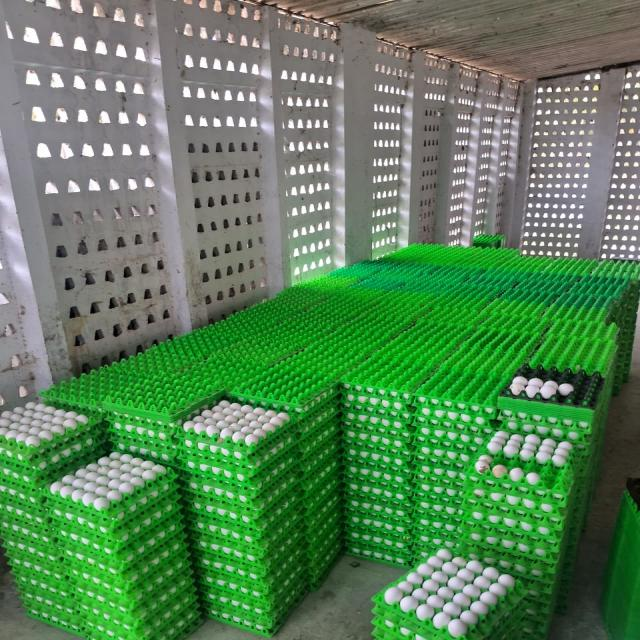egg_tray: (50, 453, 195, 636), (503, 378, 612, 599), (462, 432, 573, 561), (0, 403, 99, 547), (373, 549, 523, 640), (41, 332, 201, 412), (418, 318, 539, 420), (193, 522, 307, 628), (344, 310, 467, 408), (63, 518, 190, 608), (343, 416, 413, 565), (0, 438, 101, 541), (435, 300, 540, 398), (49, 452, 174, 534), (69, 536, 194, 618), (181, 432, 299, 518), (105, 377, 221, 464), (182, 446, 299, 530), (73, 544, 195, 622), (57, 503, 183, 574), (315, 296, 420, 380), (181, 444, 298, 518), (500, 410, 605, 492), (61, 518, 187, 586), (465, 430, 573, 508), (41, 348, 174, 411), (103, 362, 222, 432), (185, 492, 303, 562), (414, 424, 483, 542), (459, 480, 571, 552), (181, 400, 293, 472), (502, 377, 613, 448), (49, 452, 168, 517), (471, 538, 563, 622), (499, 378, 611, 446), (71, 548, 193, 610), (0, 423, 105, 495), (231, 345, 337, 416), (79, 576, 196, 640), (475, 548, 556, 640), (0, 402, 97, 478), (77, 350, 185, 418), (469, 430, 573, 498), (460, 510, 566, 576), (413, 410, 494, 496), (197, 552, 307, 615), (230, 348, 335, 412), (333, 288, 425, 361), (463, 460, 573, 520), (183, 463, 300, 518), (193, 518, 303, 575), (7, 546, 81, 630), (229, 366, 340, 422), (342, 412, 412, 500), (201, 572, 306, 630), (601, 478, 639, 638), (193, 544, 304, 596), (183, 336, 263, 408), (191, 506, 301, 558), (202, 322, 291, 386), (535, 496, 586, 606), (193, 546, 304, 596), (83, 593, 201, 640), (498, 366, 604, 418), (330, 334, 397, 411), (335, 328, 397, 410), (183, 399, 289, 446), (344, 447, 413, 519), (205, 587, 306, 636), (213, 334, 303, 388), (230, 384, 340, 428), (483, 430, 573, 483), (341, 406, 410, 475), (468, 544, 556, 598), (185, 495, 299, 536), (345, 498, 413, 565), (415, 432, 477, 504), (295, 402, 341, 498), (295, 402, 342, 492), (412, 381, 496, 430), (415, 430, 483, 486), (342, 420, 413, 473), (0, 402, 94, 442), (411, 485, 462, 558), (0, 484, 57, 548), (109, 413, 180, 464), (299, 424, 341, 510), (0, 468, 51, 538), (509, 558, 561, 626), (109, 416, 178, 466), (343, 426, 413, 474), (413, 428, 485, 474), (501, 409, 595, 444), (0, 467, 49, 533), (343, 404, 413, 448), (341, 404, 414, 446), (3, 532, 65, 581), (306, 509, 343, 589), (411, 410, 495, 445), (558, 505, 585, 612), (301, 460, 343, 528), (411, 486, 461, 541), (0, 517, 57, 564), (345, 527, 413, 566), (345, 526, 413, 565), (415, 394, 497, 426), (15, 572, 76, 615), (411, 490, 461, 542), (108, 434, 180, 470), (339, 383, 413, 418), (39, 376, 106, 414), (341, 400, 413, 435), (301, 476, 343, 535), (567, 364, 616, 414), (343, 439, 411, 475), (344, 462, 412, 498), (572, 430, 603, 508), (569, 462, 599, 542), (296, 399, 339, 454), (555, 526, 582, 613), (344, 468, 412, 502), (458, 604, 522, 640), (345, 503, 411, 537), (342, 383, 412, 414), (25, 600, 85, 636), (573, 445, 601, 522), (371, 616, 453, 640), (4, 535, 60, 570), (145, 606, 201, 640), (414, 526, 463, 564), (342, 382, 411, 408), (509, 374, 574, 400), (579, 374, 614, 422), (308, 543, 343, 591), (613, 316, 636, 388), (519, 597, 554, 640), (611, 335, 634, 394), (611, 336, 634, 394), (616, 292, 637, 346), (619, 278, 639, 332), (622, 284, 639, 340), (84, 620, 131, 640), (365, 486, 407, 502), (474, 234, 505, 248), (345, 476, 365, 495), (315, 346, 330, 362), (187, 376, 201, 392), (264, 342, 275, 358), (326, 445, 339, 458), (476, 456, 489, 468), (351, 285, 365, 296), (0, 476, 9, 493), (476, 461, 489, 472), (43, 539, 56, 547), (527, 476, 537, 486), (363, 278, 375, 286), (379, 278, 388, 288), (60, 466, 72, 472), (73, 458, 81, 466), (192, 379, 199, 388), (85, 452, 94, 459), (268, 496, 277, 502), (574, 522, 583, 527), (133, 631, 139, 638), (0, 532, 5, 540), (31, 443, 39, 447), (161, 606, 165, 614), (102, 542, 109, 546), (536, 552, 543, 556), (420, 485, 425, 490), (365, 378, 370, 383), (557, 608, 563, 612), (485, 550, 491, 554), (197, 348, 201, 354), (43, 438, 51, 441), (459, 370, 463, 376), (435, 472, 442, 475), (443, 393, 447, 398), (14, 570, 19, 574), (0, 442, 5, 446), (50, 544, 55, 548), (580, 372, 585, 376), (195, 362, 199, 367), (163, 380, 166, 386), (16, 568, 20, 572), (27, 452, 31, 456), (19, 444, 23, 448), (387, 332, 391, 336), (393, 418, 398, 421), (549, 509, 553, 512), (105, 374, 108, 378), (276, 467, 280, 470), (70, 378, 73, 382), (490, 636, 493, 640), (349, 366, 352, 370), (341, 364, 344, 368), (487, 421, 489, 426), (545, 448, 547, 453), (0, 488, 5, 490), (388, 336, 391, 339), (362, 471, 365, 474), (51, 402, 55, 404), (502, 460, 506, 462), (501, 554, 505, 556), (155, 348, 157, 352), (421, 485, 423, 489), (532, 463, 534, 466), (430, 383, 432, 386), (567, 443, 569, 446), (533, 436, 536, 438), (509, 536, 511, 539), (525, 454, 528, 456), (509, 554, 512, 556), (5, 449, 7, 452), (47, 478, 50, 480), (54, 474, 57, 476), (501, 398, 504, 400), (616, 359, 618, 362), (439, 491, 441, 494), (469, 331, 471, 333), (557, 458, 559, 460), (557, 460, 559, 462), (554, 450, 555, 454), (311, 346, 313, 348), (233, 584, 235, 586), (198, 372, 200, 374), (16, 540, 18, 542), (287, 375, 289, 377), (210, 336, 212, 338), (506, 460, 507, 463), (576, 383, 577, 386), (372, 512, 373, 514), (356, 414, 357, 416), (0, 438, 1, 440), (398, 282, 399, 284), (337, 347, 339, 348), (158, 411, 159, 412), (545, 600, 546, 601), (336, 358, 337, 359), (631, 276, 632, 277), (165, 347, 166, 347), (383, 419, 384, 419), (549, 474, 550, 474), (563, 416, 567, 416), (545, 636, 545, 636), (109, 410, 111, 410), (193, 363, 195, 363), (547, 598, 547, 600), (543, 636, 545, 636), (395, 394, 396, 394), (389, 338, 390, 338), (352, 327, 354, 327), (249, 470, 253, 470), (216, 468, 219, 468), (65, 577, 65, 579), (23, 505, 23, 505), (10, 492, 11, 492), (209, 385, 209, 385), (401, 409, 401, 410), (398, 405, 399, 405), (378, 396, 379, 396), (581, 417, 583, 417), (261, 328, 263, 328), (78, 621, 79, 621), (381, 385, 385, 385), (380, 368, 382, 368), (223, 341, 223, 342), (373, 403, 377, 403), (503, 473, 503, 475)
